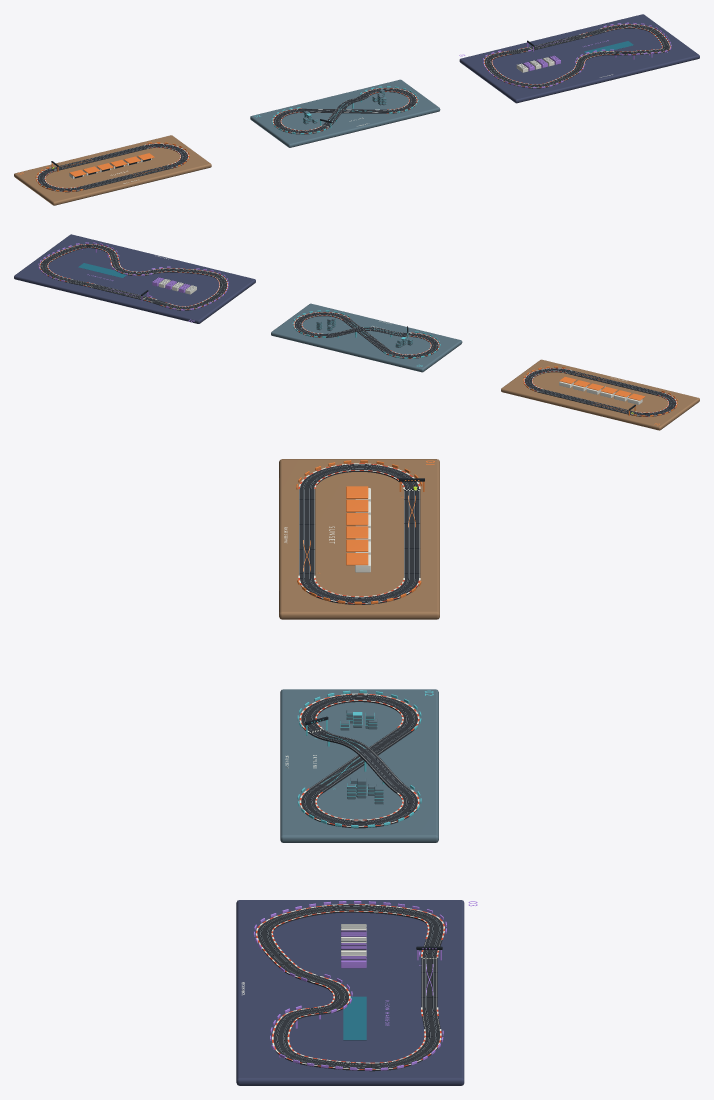
Rendered from slot08.glb.
3 renders of one model, top to bottom at view 1: azimuth 30°, elevation 25°; view 2: azimuth 150°, elevation 25°; view 3: azimuth 270°, elevation 25°, orthographic. The views are drawn at different scales.
Parts seen in each view (by area): view 1: BASE_2, BASE_0, BASE_1, ROAD_2, ROAD_0, ROAD_1; view 2: BASE_2, BASE_1, BASE_0, ROAD_2, ROAD_0, ROAD_1, KERBS_2_1; view 3: BASE_2, BASE_0, BASE_1, ROAD_2, ROAD_1, ROAD_0, RAILS_2, HARBOR_water, SLOTS_2.
Boxes of the visible parts, <box> form: BASE_2: <box>459,14,699,103</box>; BASE_0: <box>14,135,211,205</box>; BASE_1: <box>250,79,440,147</box>; ROAD_2: <box>484,24,669,88</box>; ROAD_0: <box>37,144,187,192</box>; ROAD_1: <box>273,88,416,134</box>; BASE_2: <box>14,234,255,323</box>; BASE_1: <box>271,303,462,372</box>; BASE_0: <box>501,359,699,430</box>; ROAD_2: <box>40,244,226,310</box>; ROAD_0: <box>524,368,676,416</box>; ROAD_1: <box>294,312,438,358</box>; KERBS_2_1: <box>39,244,227,309</box>; BASE_2: <box>236,900,464,1085</box>; BASE_0: <box>279,459,439,619</box>; BASE_1: <box>280,689,438,842</box>; ROAD_2: <box>257,904,443,1071</box>; ROAD_1: <box>301,694,417,828</box>; ROAD_0: <box>299,464,420,604</box>; RAILS_2: <box>260,906,440,1068</box>; HARBOR_water: <box>343,996,366,1040</box>; SLOTS_2: <box>261,906,439,1067</box>.
Size of the model in its own units: 62.98 by 1.21 by 10.33.
